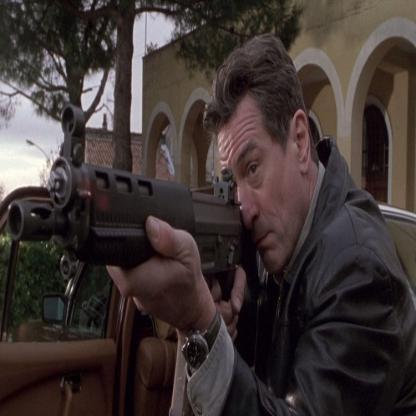Gun: (4, 89, 285, 330)
